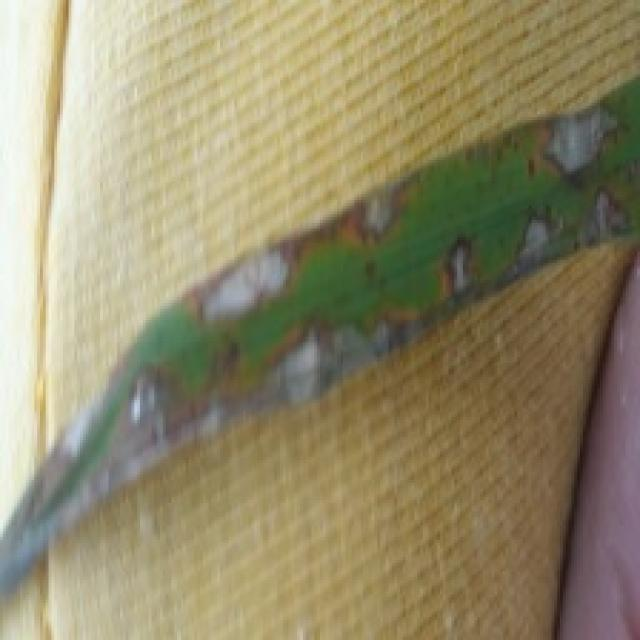Unhealthy: (0, 188, 635, 607), (176, 161, 431, 331), (525, 99, 633, 191), (462, 123, 527, 183), (606, 156, 640, 189), (361, 256, 379, 284)
